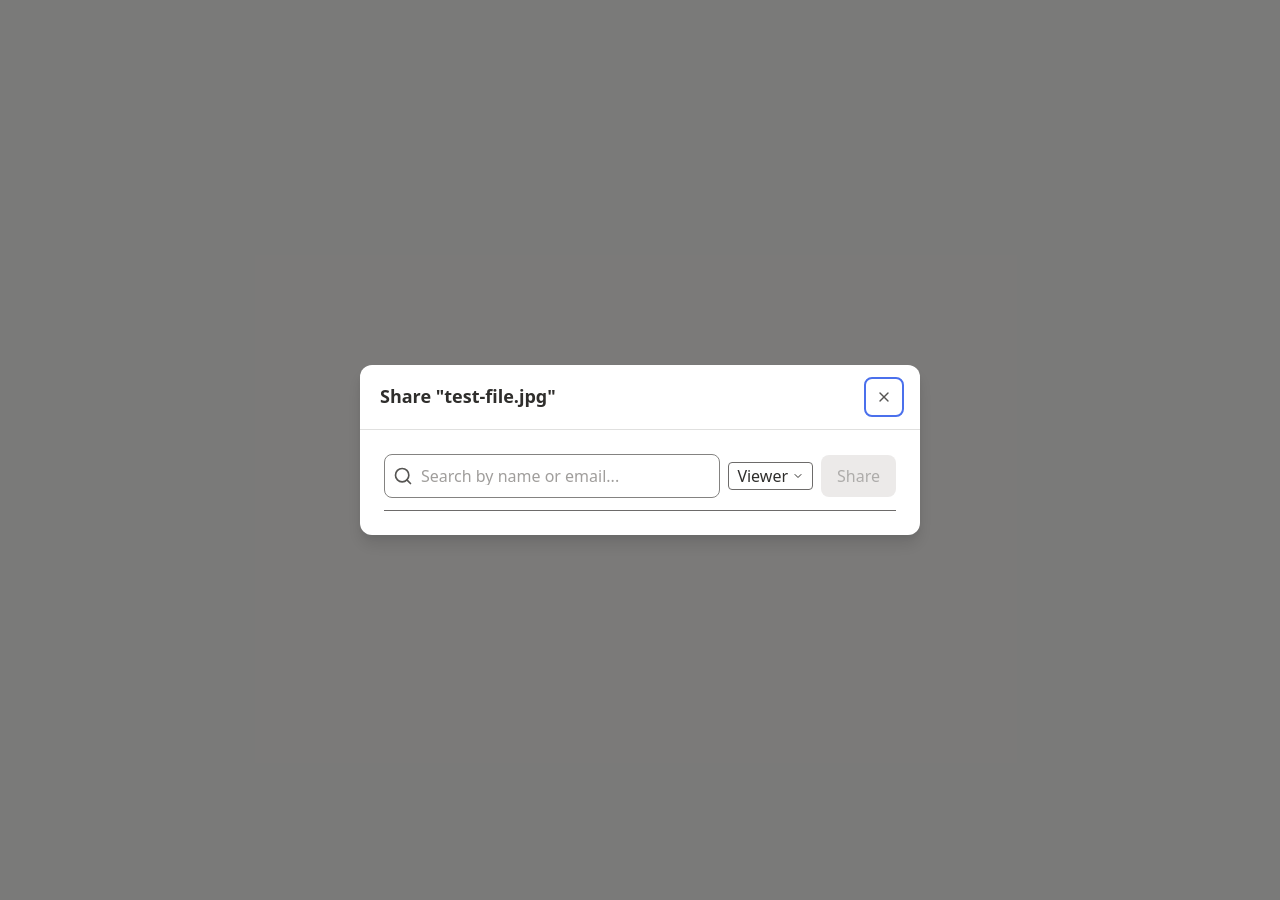
Test: ShareDialog › add flow › clears staged user and disables Share after adding
In the dropdown with placeholder "Search by name or email...": (566, 476) [421, 467, 711, 485], type "carol"
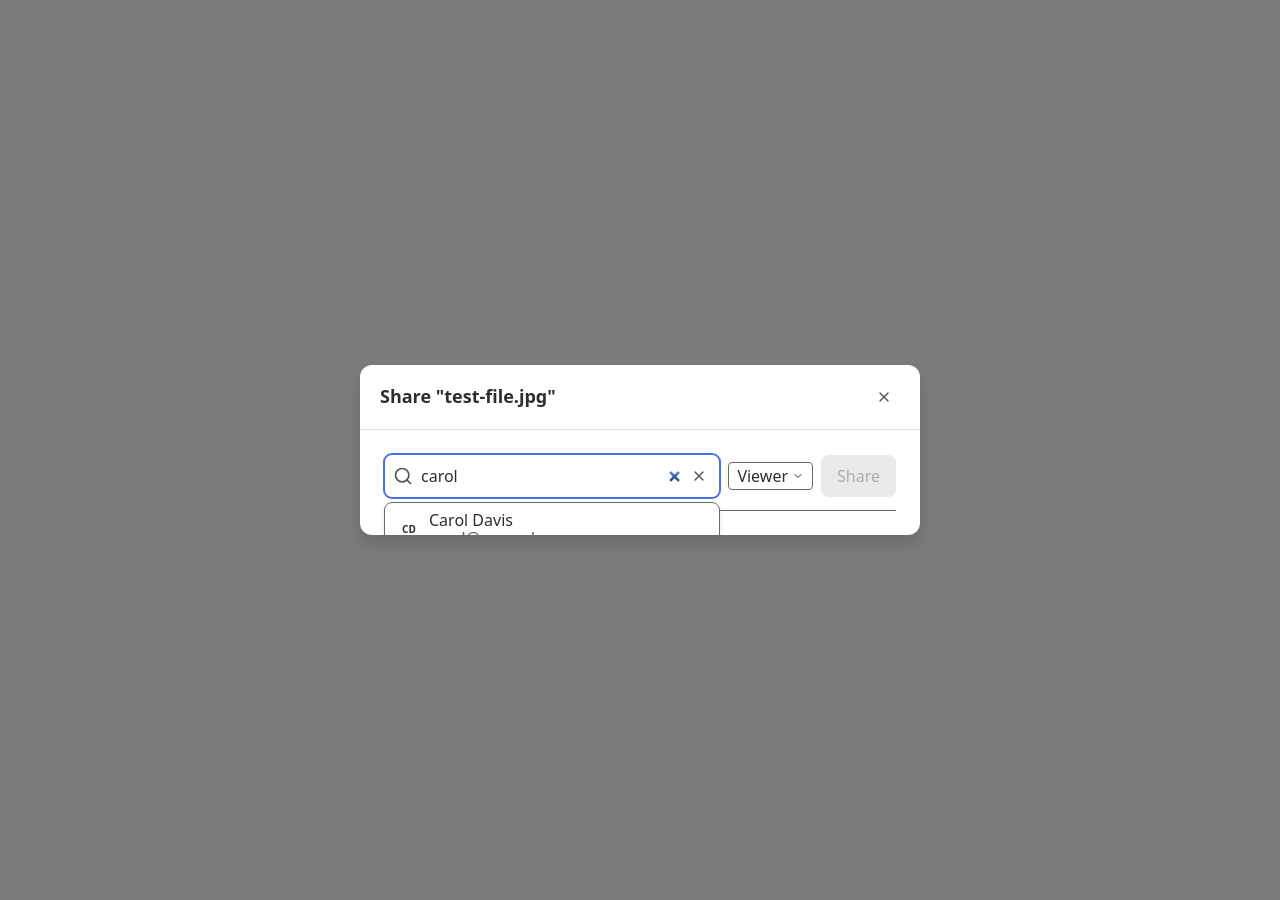
Now the text "Carol Davis" is shown
Click the text "Carol Davis": (471, 520) [429, 509, 513, 531]
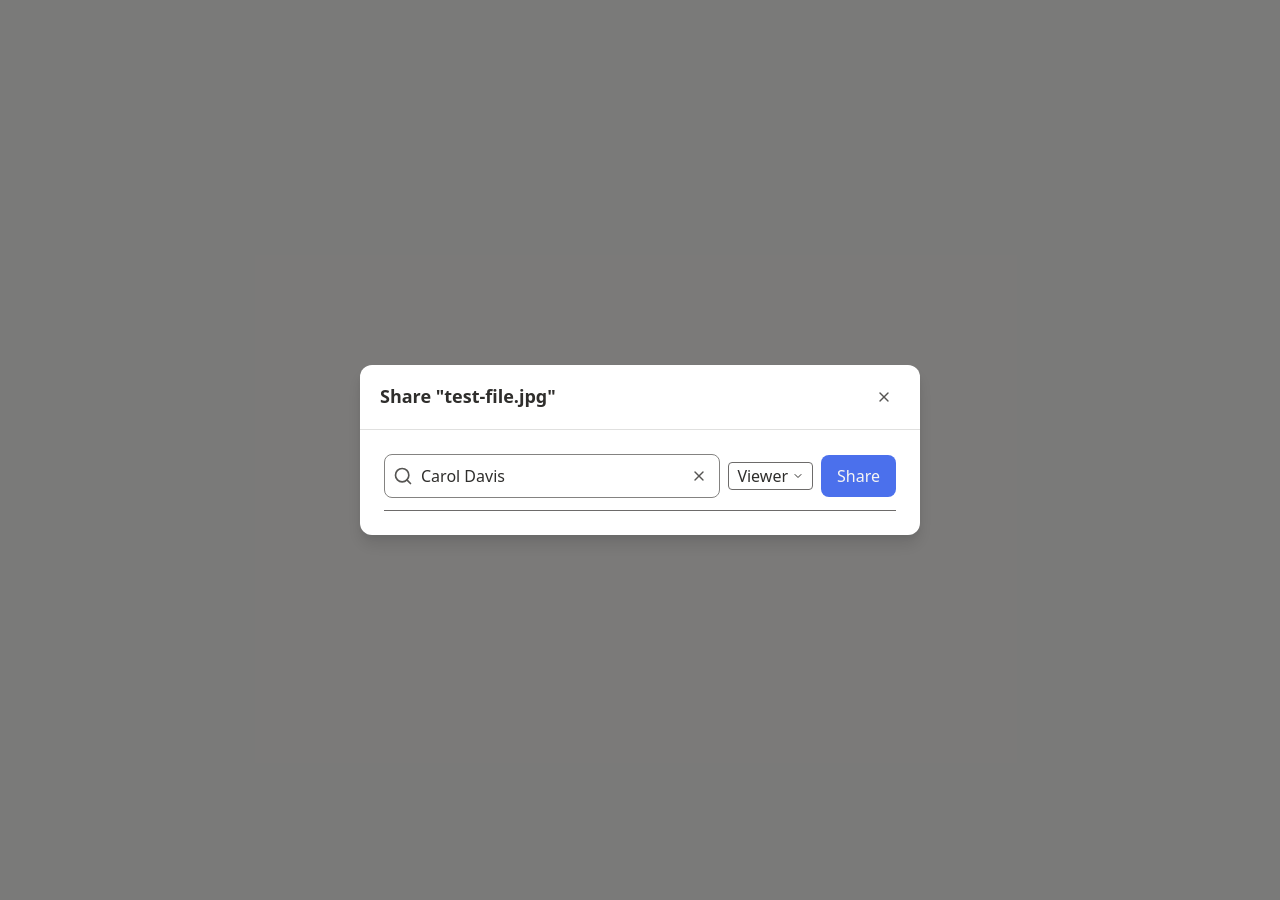
Click the button "Share": (858, 476) [821, 455, 896, 497]
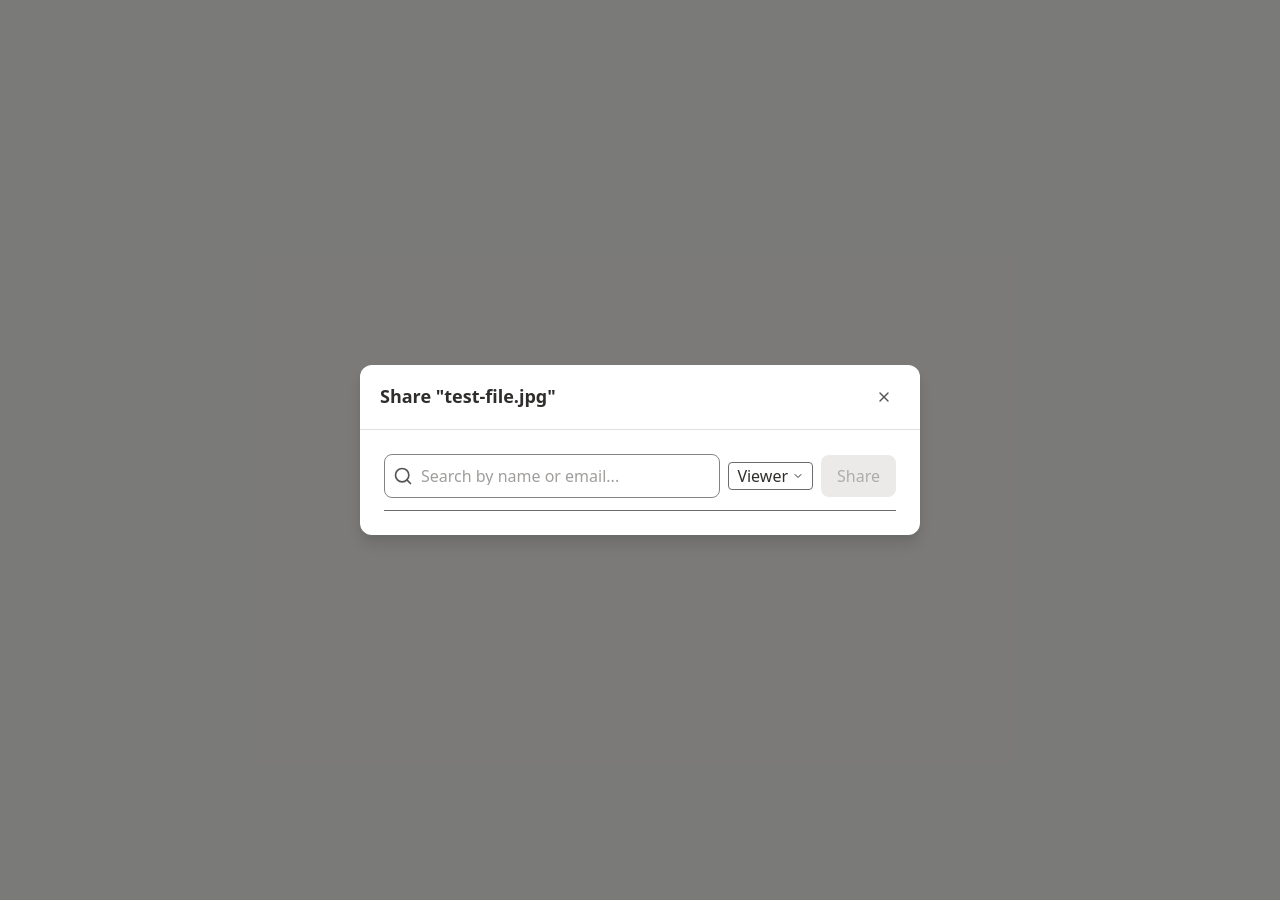
Now the button "Share" is disabled, box [821, 455, 896, 497]
